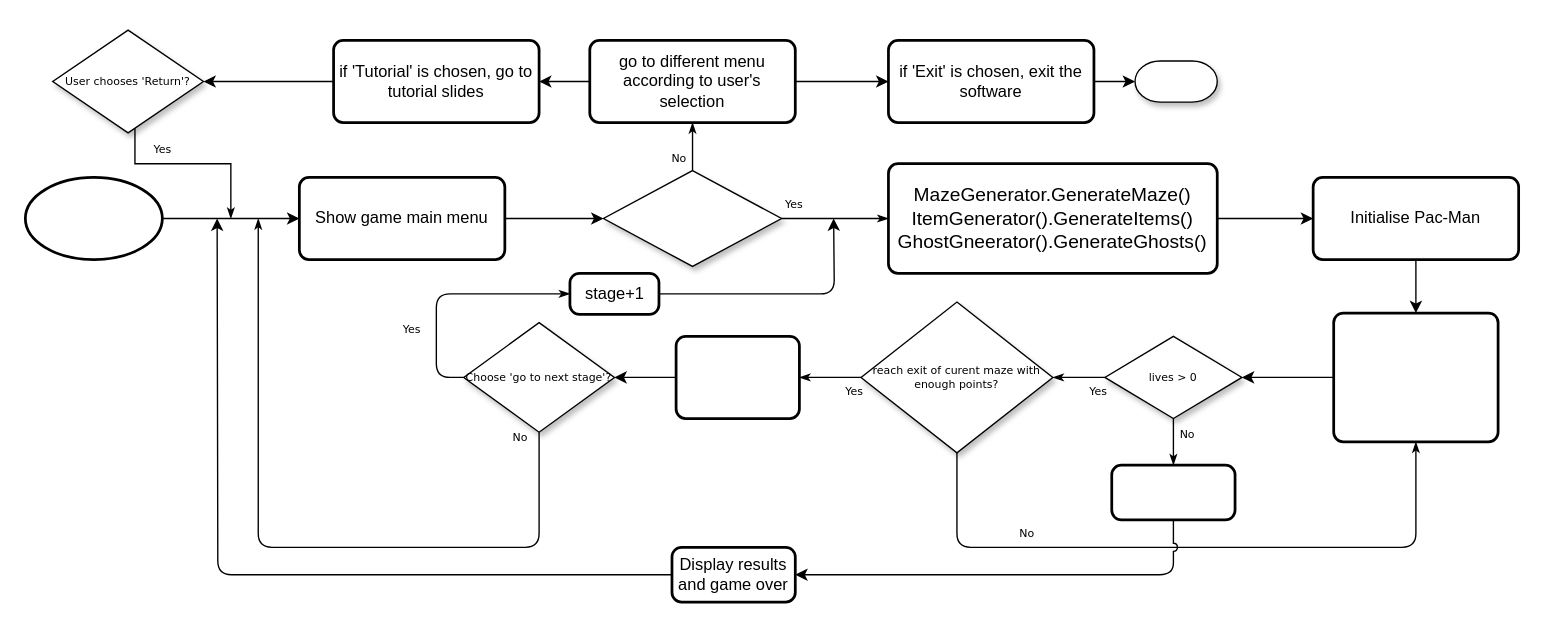
Image size: 1543x626. Some labels were removed from this diagram. The shapes that lost their labels are listed below. From the top down, each one's centre as x and y in pixels, then its label:
At (x=1176, y=83): "End".
At (x=93, y=217): "Start".
At (x=693, y=220): "Choose 'Start Game'".
At (x=737, y=376): "Show Items shop interface".
At (x=1415, y=377): "Gameplay (eat pac-dots, avoid ghosts, collect and use items)".
At (x=1173, y=492): "Game Over".
